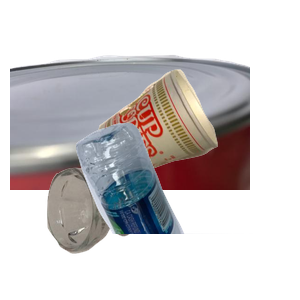glass: (44, 165, 178, 300)
metal: (10, 52, 250, 232)
plastic: (73, 120, 300, 300)
trash: (95, 67, 300, 238)
